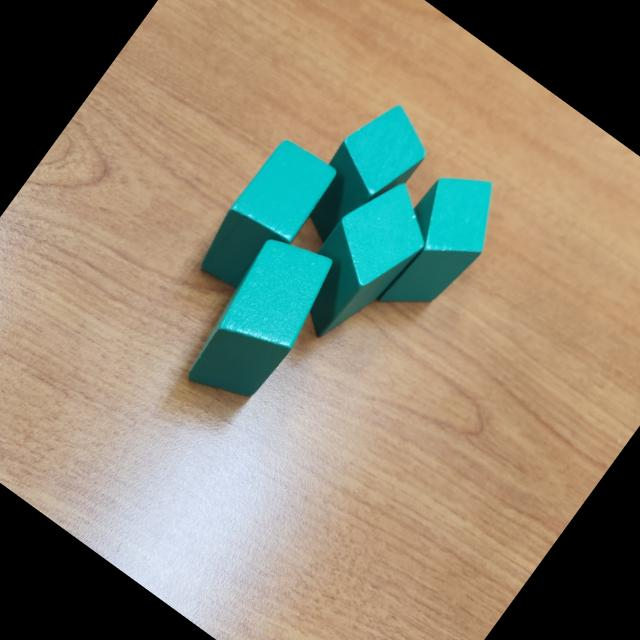green: (173, 220, 349, 418), (275, 164, 448, 356), (358, 156, 517, 333), (286, 88, 442, 262), (187, 132, 341, 306)
